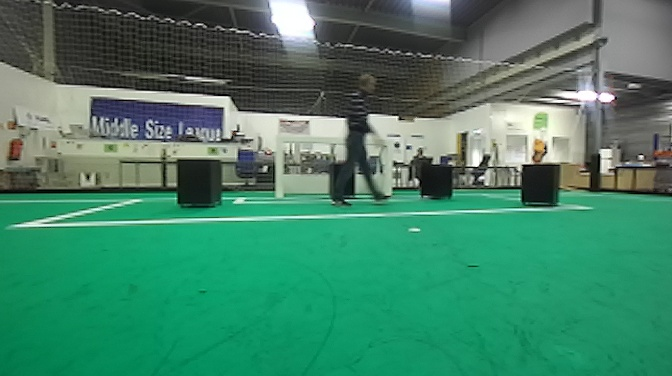goalpost: (270, 132, 289, 199), (380, 137, 395, 199)
human: (332, 64, 382, 210)
